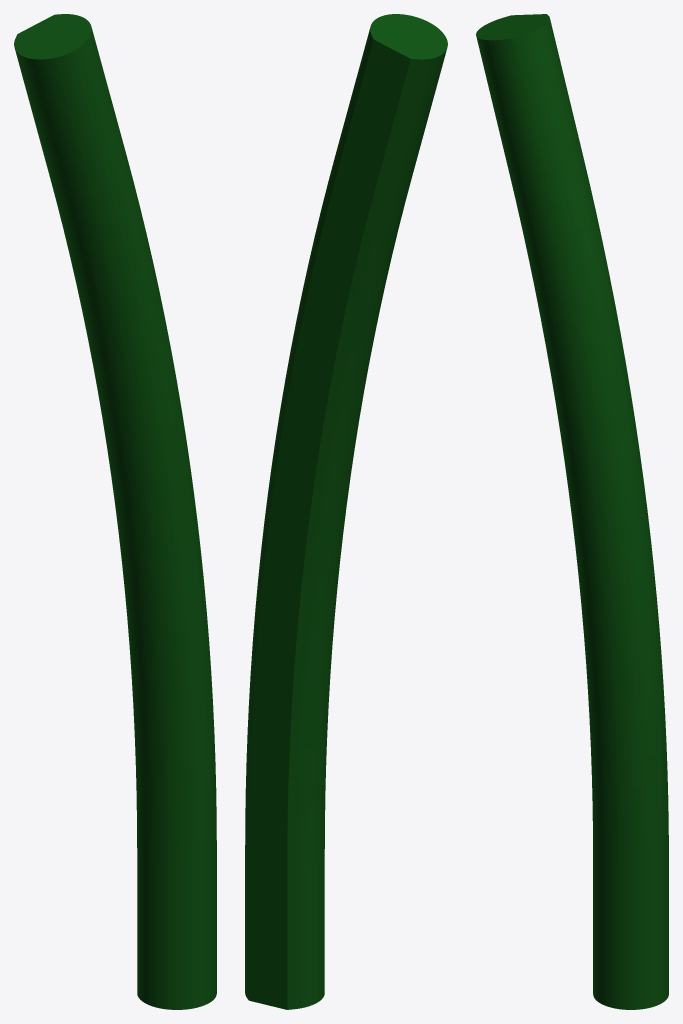
The model's file is stem_3B_15_L.glb.
3 renders of one model, left to right at view 1: azimuth 30°, elevation 25°; view 2: azimuth 150°, elevation 25°; view 3: azimuth 330°, elevation 25°, orthographic. The views are drawn at different scales.
Parts seen in each view (by area): view 1: stem_3B_15_L; view 2: stem_3B_15_L; view 3: stem_3B_15_L.
Boxes of the visible parts, x1,y1,x2,y2 form: stem_3B_15_L: [14, 14, 216, 1009]; stem_3B_15_L: [245, 14, 447, 1009]; stem_3B_15_L: [476, 14, 668, 1009].
Size of the model in its own units: 0.02 by 0.0992 by 0.00666.
